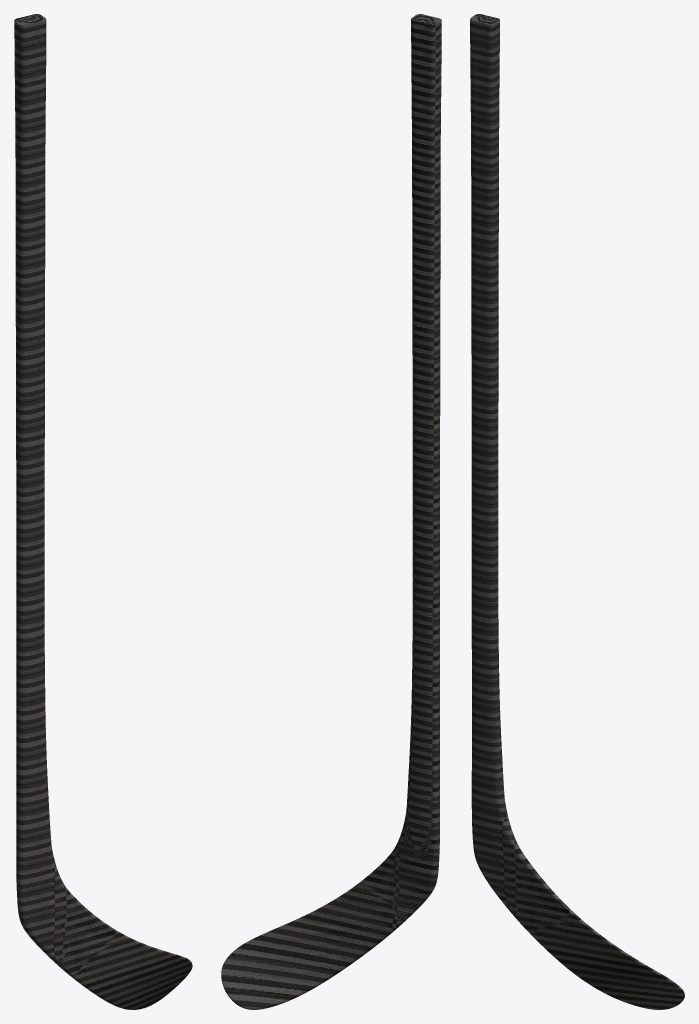
The model's file is P37-SBO.glb.
3 views of the same model, side by side, from view 1: azimuth 30°, elevation 25°; view 2: azimuth 150°, elevation 25°; view 3: azimuth 330°, elevation 25° (orthographic). The views are drawn at different scales.
Parts seen in each view (by area): view 1: geometry_0; view 2: geometry_0; view 3: geometry_0.
Boxes of the visible parts, x1,y1,x2,y2 form: geometry_0: (14, 14, 192, 1009); geometry_0: (221, 14, 441, 1009); geometry_0: (470, 14, 684, 1009).
Size of the model in its own units: 229 by 1147 by 77.45.
1 material, 1 textured.
